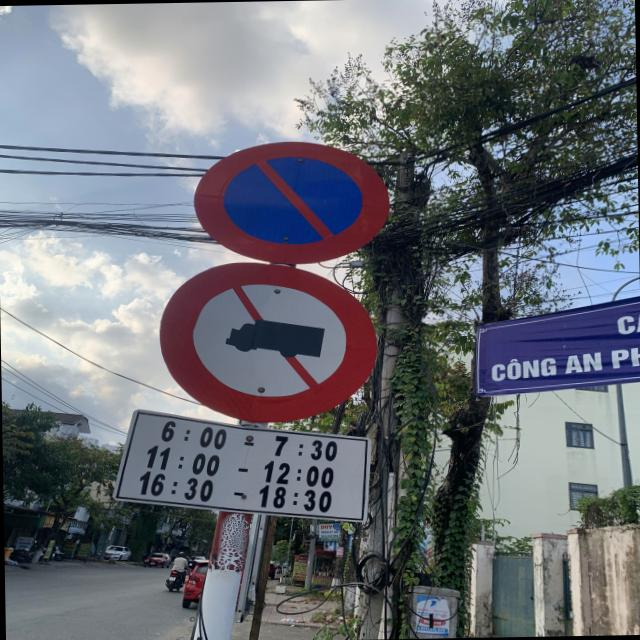Cam_Dau_Xe: (190, 138, 391, 264)
Cam_Xe_Tai: (158, 259, 378, 422)
